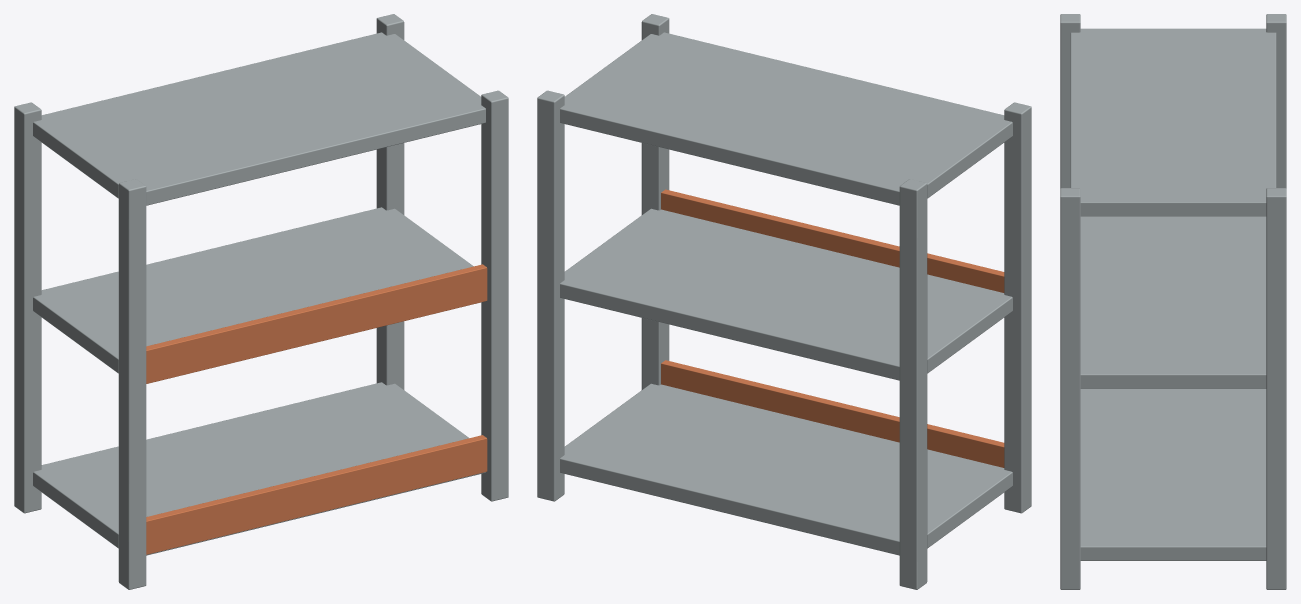
Rendered from off-grid-power-and-controls-battery-rack-e6343be4__2984.glb.
The picture shows the model from 3 angles, left to right: view 1: azimuth 30°, elevation 25°; view 2: azimuth 150°, elevation 25°; view 3: azimuth 270°, elevation 25°; orthographic projection.
Visible parts, largest first — view 1: battery-rack; view 2: battery-rack; view 3: battery-rack.
Boxes of the visible parts, bbox=[...] form: battery-rack: bbox=[14, 14, 508, 589]; battery-rack: bbox=[537, 14, 1031, 589]; battery-rack: bbox=[1060, 14, 1286, 589].
Bounding box in the file's own units: 0.945 × 0.95 × 0.495.
